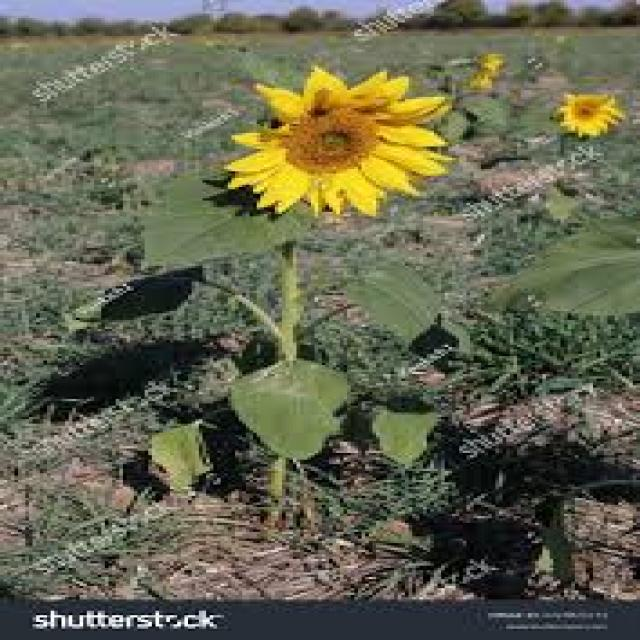sunflower: (210, 61, 468, 225), (551, 82, 624, 144), (450, 51, 519, 97)
